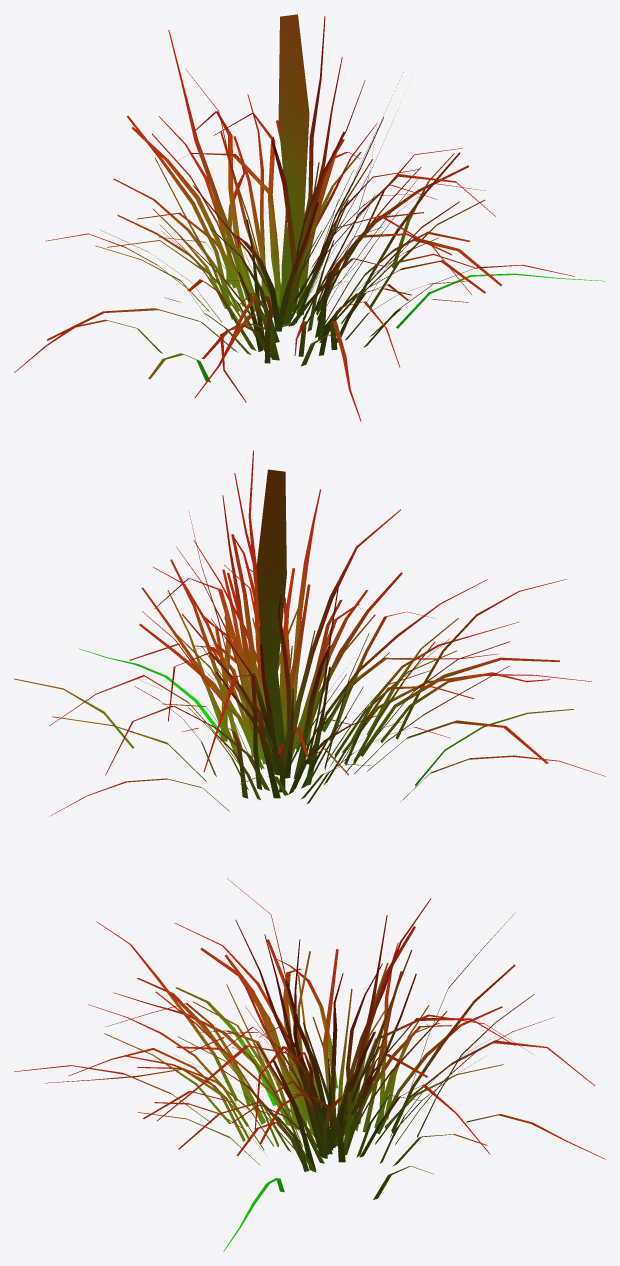
The model's file is vegetation_13.fbx.
The picture shows the model from 3 angles, top to bottom: view 1: azimuth 30°, elevation 25°; view 2: azimuth 150°, elevation 25°; view 3: azimuth 270°, elevation 25°; orthographic projection. The views are drawn at different scales.
Parts seen in each view (by area): view 1: _ksgc_Var11_; view 2: _ksgc_Var11_; view 3: _ksgc_Var11_.
Boxes of the visible parts, bbox=[...] form: _ksgc_Var11_: bbox=[14, 14, 605, 421]; _ksgc_Var11_: bbox=[14, 450, 605, 816]; _ksgc_Var11_: bbox=[14, 878, 605, 1251].
Bounding box in the file's own units: 24.74 × 13.31 × 23.13.
